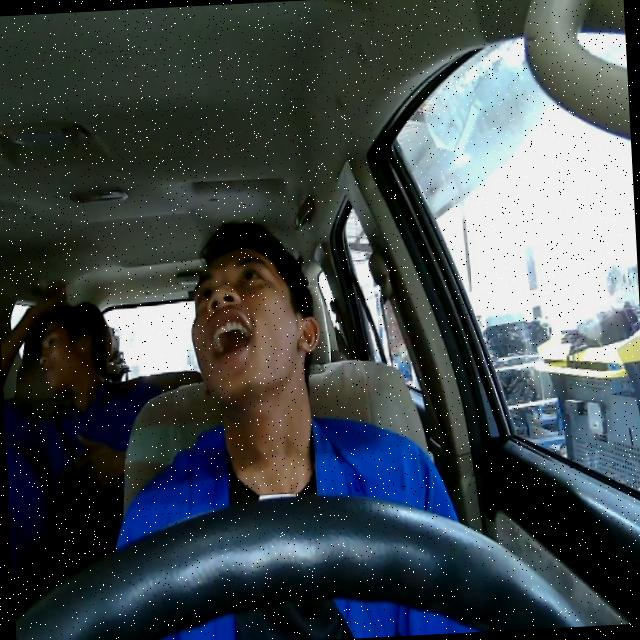yarning: (185, 243, 322, 412)
